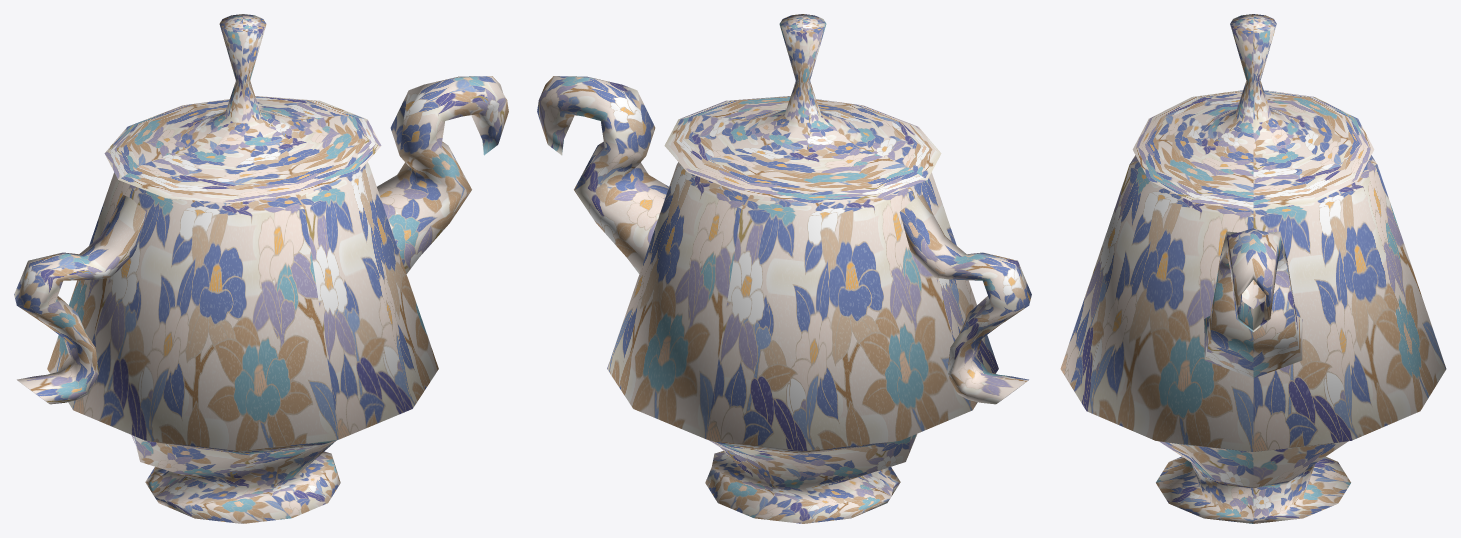
The model's file is texutred teapot 6.FBX.
3 views of the same model, side by side, from view 1: azimuth 30°, elevation 25°; view 2: azimuth 150°, elevation 25°; view 3: azimuth 270°, elevation 25° (orthographic).
Visible parts, largest first — view 1: 6; view 2: 6; view 3: 6.
Part boxes in pixels (<box>): 6: <box>14,14,508,523</box>; 6: <box>537,14,1031,523</box>; 6: <box>1060,14,1446,523</box>.
Bounding box in the file's own units: 37.03 × 35.6 × 25.53.
Materials: 1 (1 with a texture image).
